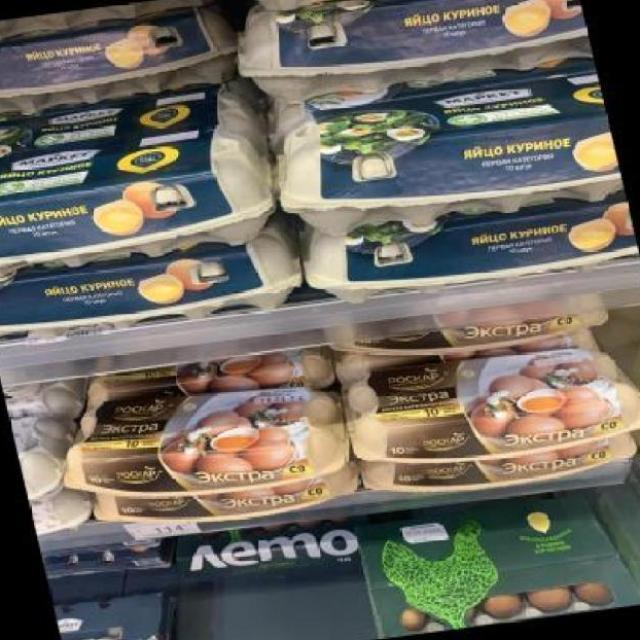Egg: (262, 72, 627, 242), (0, 120, 290, 284), (335, 336, 640, 473), (224, 0, 595, 109), (46, 378, 355, 507), (294, 195, 640, 306), (0, 237, 307, 346), (0, 10, 237, 118), (0, 81, 255, 168)
